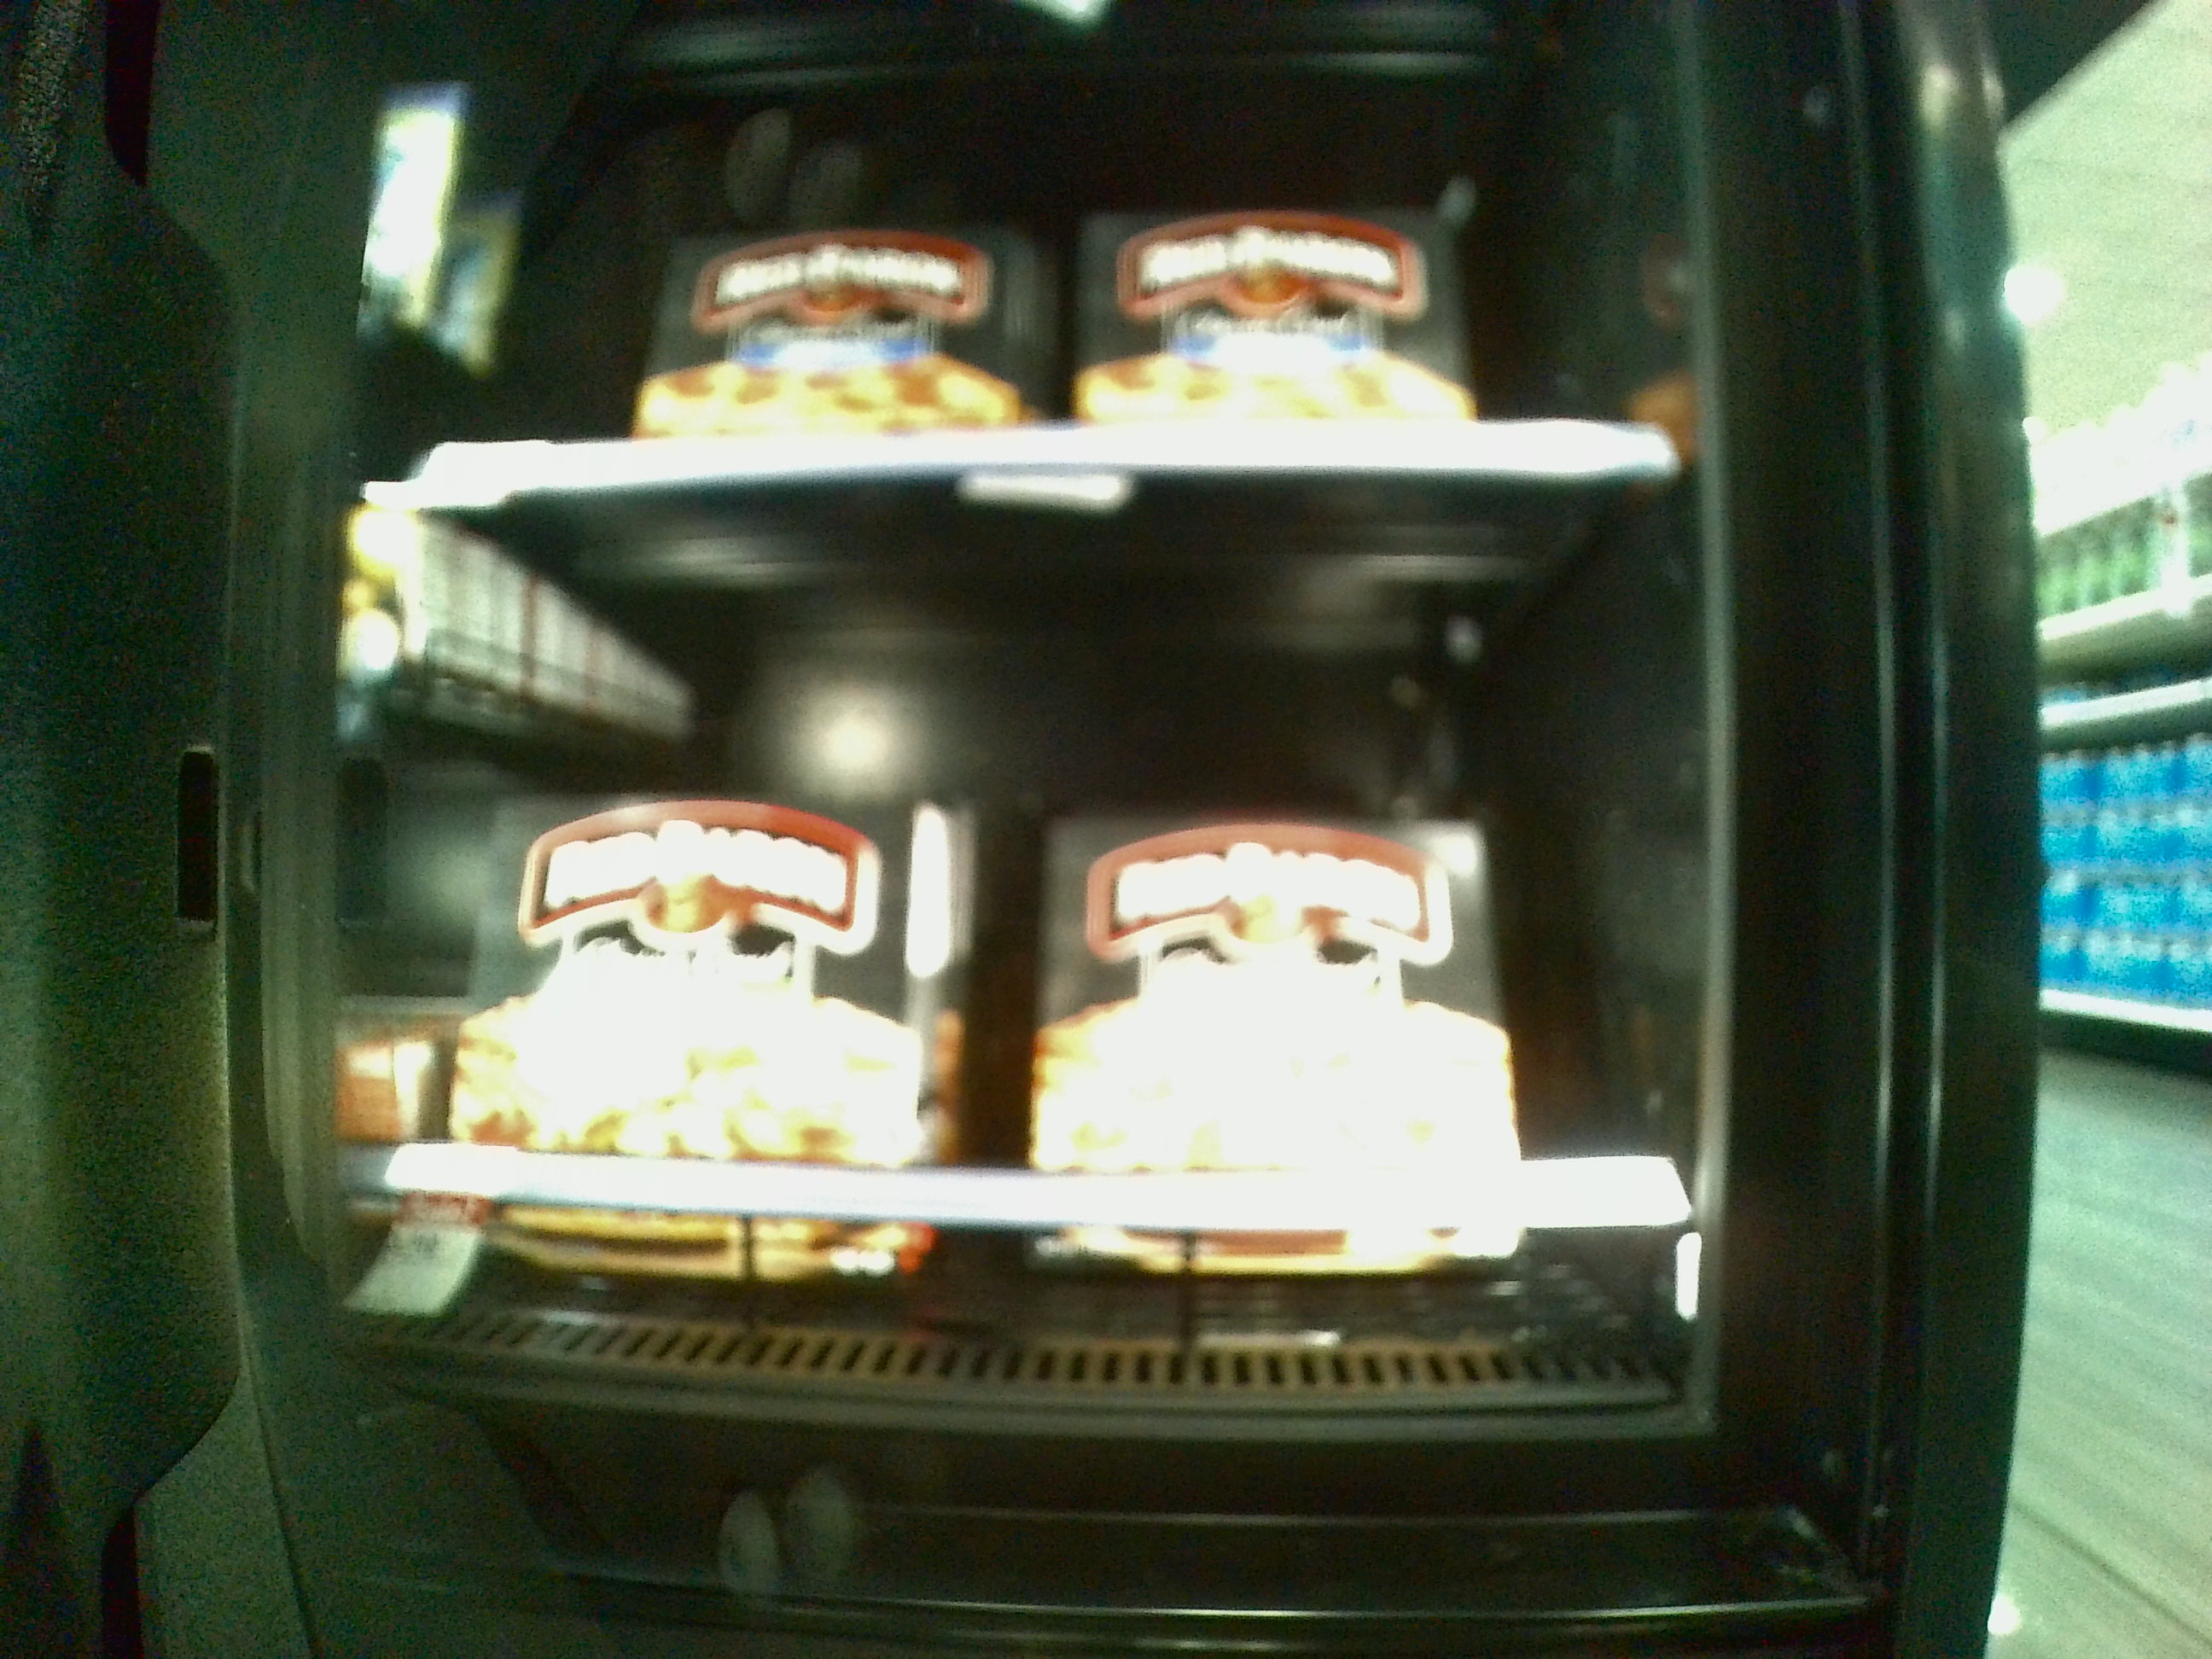shelf: (399, 518, 1669, 1368)
